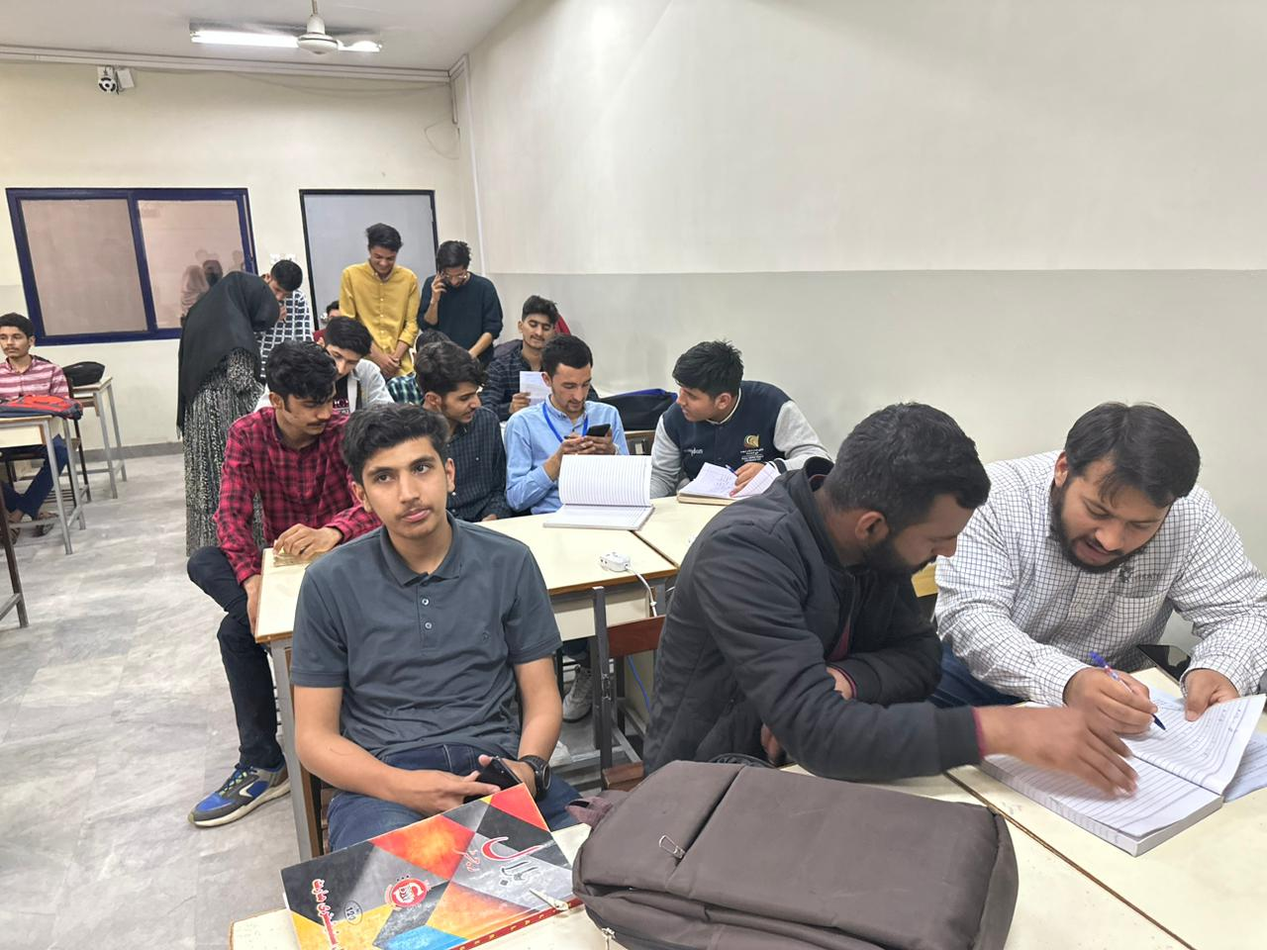non-cheating: (338, 393, 466, 559), (535, 332, 600, 417), (510, 290, 564, 355), (361, 215, 407, 282), (431, 236, 478, 295), (0, 309, 40, 367)
phone: (413, 737, 554, 824), (553, 414, 625, 465)
